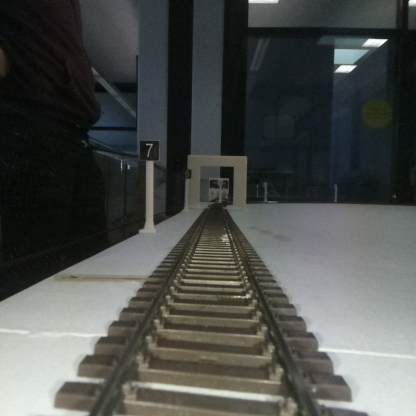black-info-7: (140, 140, 159, 230)
